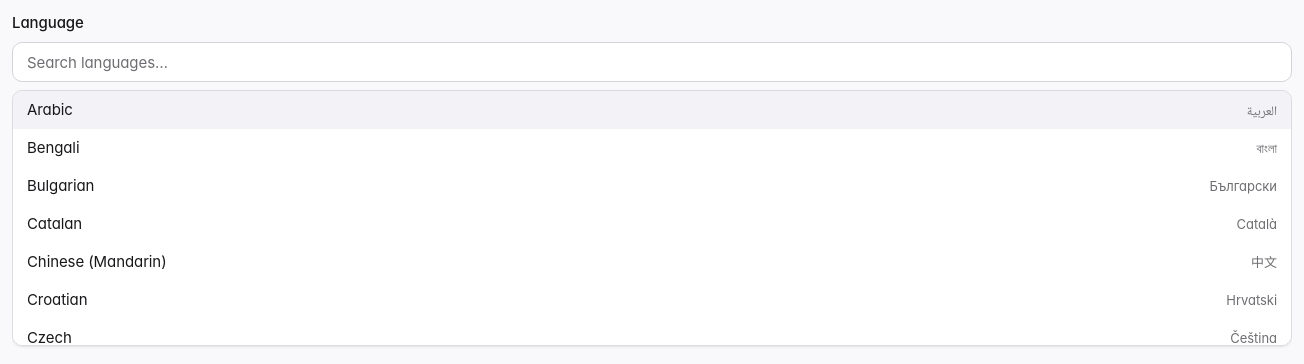
Test case: LanguageCombobox › filters case-insensitively by English name
This screenshot has width=1304, height=364.
Step 1. Type "span" into the dropdown → coordinates (652, 62), box [12,42,1292,82]
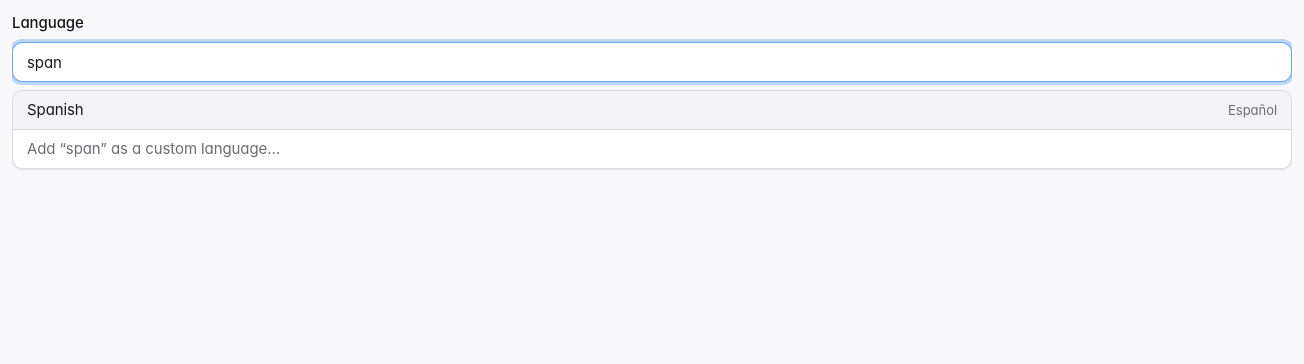
Expected: the text "French" is not shown
Expected: the number of options is 2, [13,91,1291,129]; [13,129,1291,168]
Expected: the text "Spanish" is shown, [27,99,84,121]
